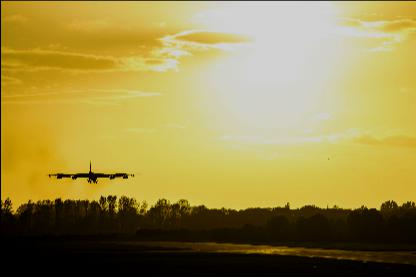B2: (41, 158, 141, 182)
